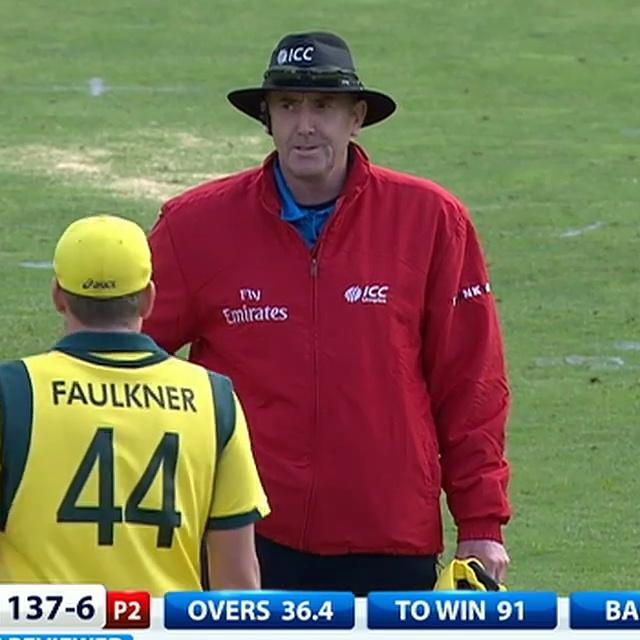umpire: (103, 7, 544, 594)
